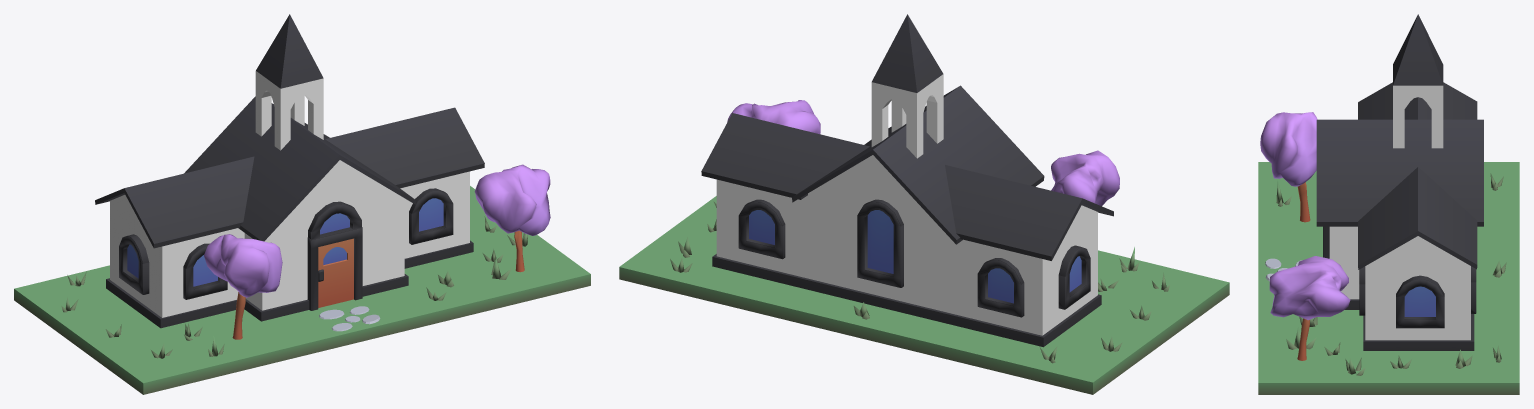
The model's file is school_house.glb.
The picture shows the model from 3 angles, left to right: view 1: azimuth 30°, elevation 25°; view 2: azimuth 150°, elevation 25°; view 3: azimuth 270°, elevation 25°; orthographic projection. The views are drawn at different scales.
Visible parts, largest first — view 1: school_house; view 2: school_house; view 3: school_house.
Boxes of the visible parts, x1,y1,x2,y2 form: school_house: [14, 14, 590, 394]; school_house: [619, 14, 1229, 394]; school_house: [1258, 14, 1519, 394].
Bounding box in the file's own units: 2 × 1.14 × 1.
1 material, 1 textured.
